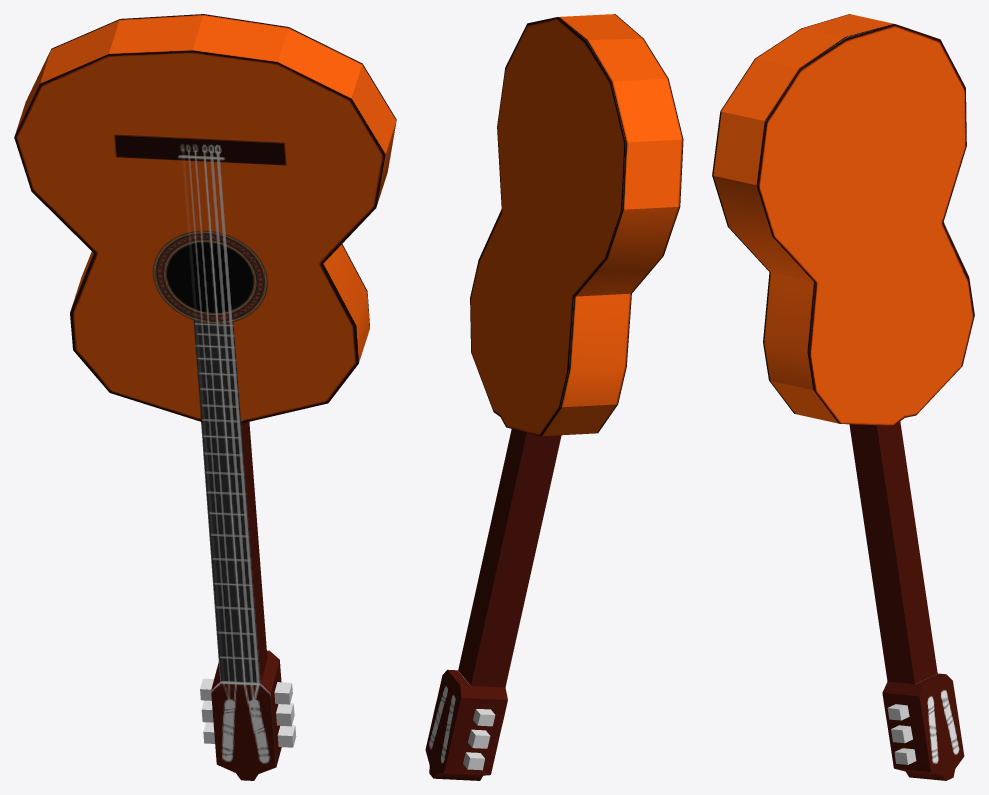
Rendered from Guitarra2_000020.obj.
3 renders of one model, left to right at view 1: azimuth 30°, elevation 25°; view 2: azimuth 150°, elevation 25°; view 3: azimuth 270°, elevation 25°, orthographic. The views are drawn at different scales.
Parts seen in each view (by area): view 1: g2_pPlane4.001; view 2: g2_pPlane4.001; view 3: g2_pPlane4.001.
Part boxes in pixels (x1=…): g2_pPlane4.001: x1=14, y1=14, x2=396, y2=780; g2_pPlane4.001: x1=425, y1=14, x2=683, y2=780; g2_pPlane4.001: x1=712, y1=14, x2=974, y2=780.
Bounding box in the file's own units: 4.63 × 12.21 × 4.13.
